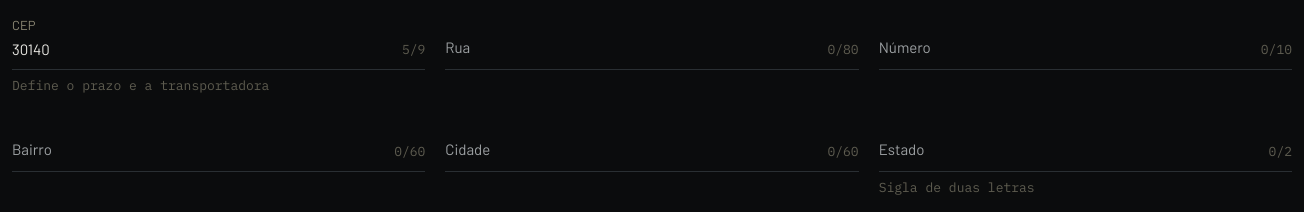
DeliveryStep › exibe a mensagem do validador para CEP incompleto
Click the field labelled "CEP" at [219, 43], box [12,16,425,70]
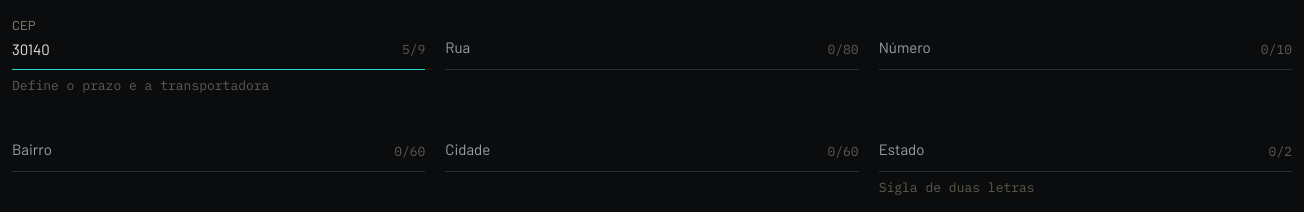
Press Tab
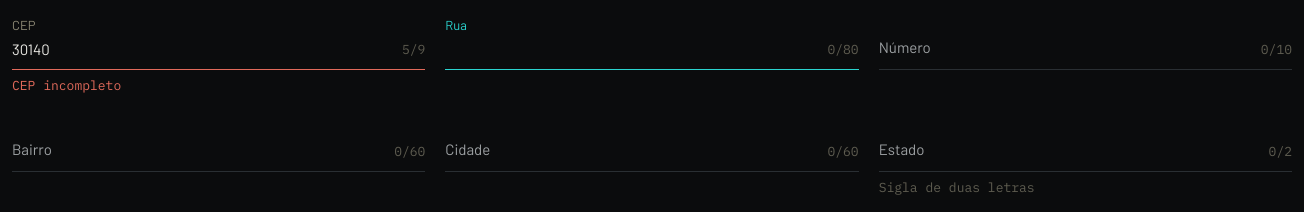
Check: the text "CEP incompleto" is shown, box [12,77,121,94]
